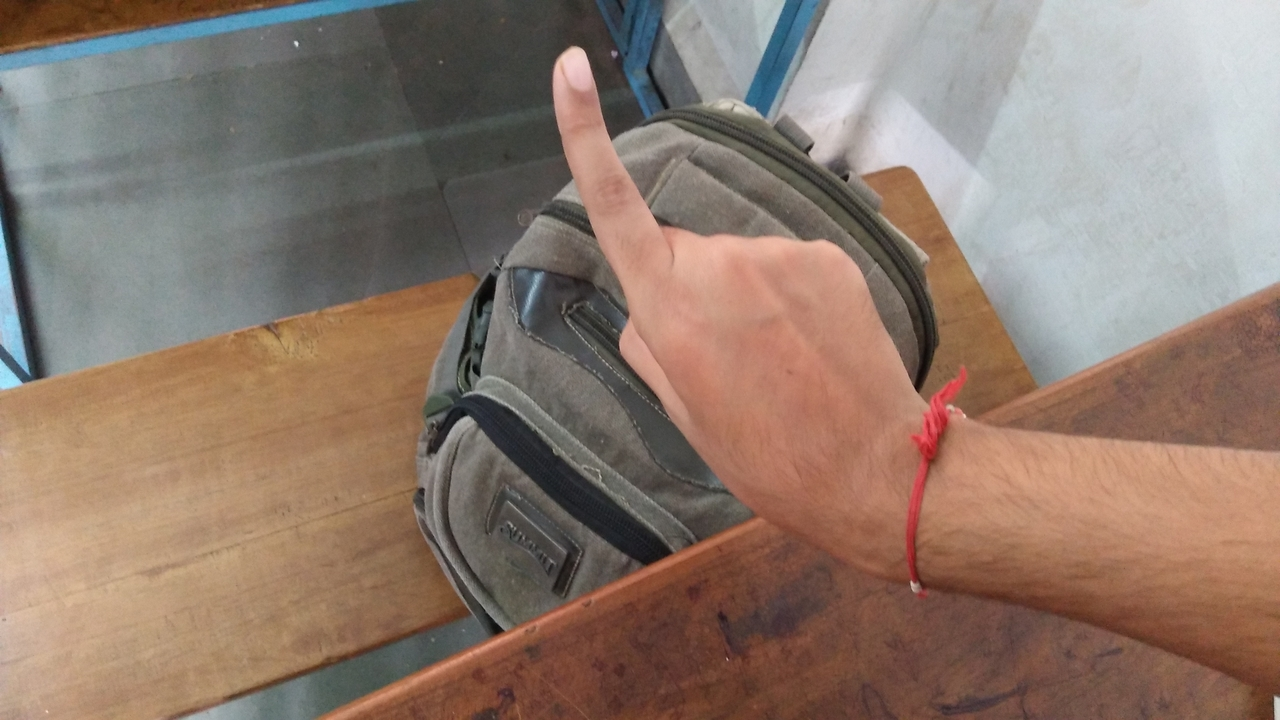fingertip: (542, 40, 604, 98)
